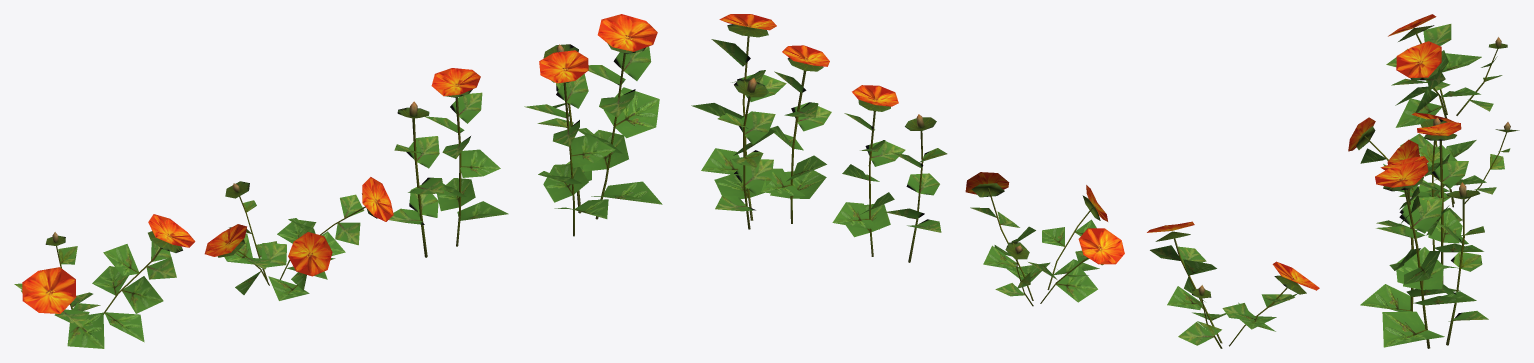
File: Cosmos sulphureus_m.FBX
3 renders of one model, left to right at view 1: azimuth 30°, elevation 25°; view 2: azimuth 150°, elevation 25°; view 3: azimuth 270°, elevation 25°, orthographic. The views are drawn at different scales.
Parts seen in each view (by area): view 1: Cosmos sulphureus04, Cosmos sulphureus02, Cosmos sulphureus01, Cosmos sulphureus03; view 2: Cosmos sulphureus04, Cosmos sulphureus01, Cosmos sulphureus03, Cosmos sulphureus02; view 3: Cosmos sulphureus04, Cosmos sulphureus02, Cosmos sulphureus03, Cosmos sulphureus01.
Part boxes in pixels (x1,y1,x2,y2): Cosmos sulphureus04: [524, 14, 662, 236]; Cosmos sulphureus02: [14, 214, 195, 348]; Cosmos sulphureus01: [204, 177, 393, 300]; Cosmos sulphureus03: [389, 68, 508, 257]; Cosmos sulphureus04: [691, 14, 831, 229]; Cosmos sulphureus01: [965, 172, 1124, 306]; Cosmos sulphureus03: [832, 85, 947, 262]; Cosmos sulphureus02: [1147, 221, 1319, 348]; Cosmos sulphureus04: [1360, 156, 1488, 348]; Cosmos sulphureus02: [1386, 14, 1507, 127]; Cosmos sulphureus03: [1399, 117, 1483, 283]; Cosmos sulphureus01: [1348, 112, 1519, 207].
Size of the model in its own units: 500 by 150 by 122.
